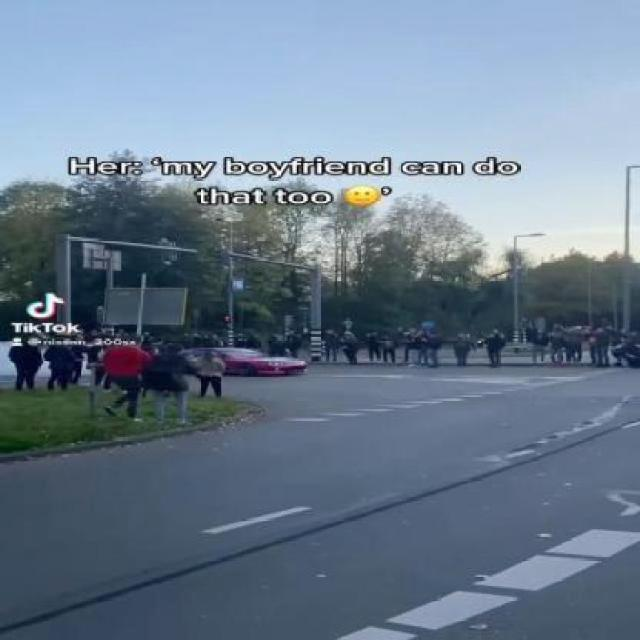car: (180, 344, 313, 384)
